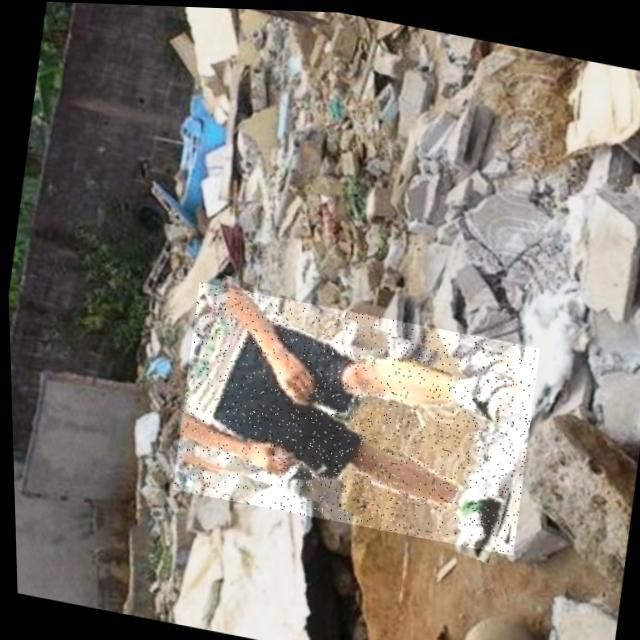Person in Rubble: (165, 279, 543, 552)
